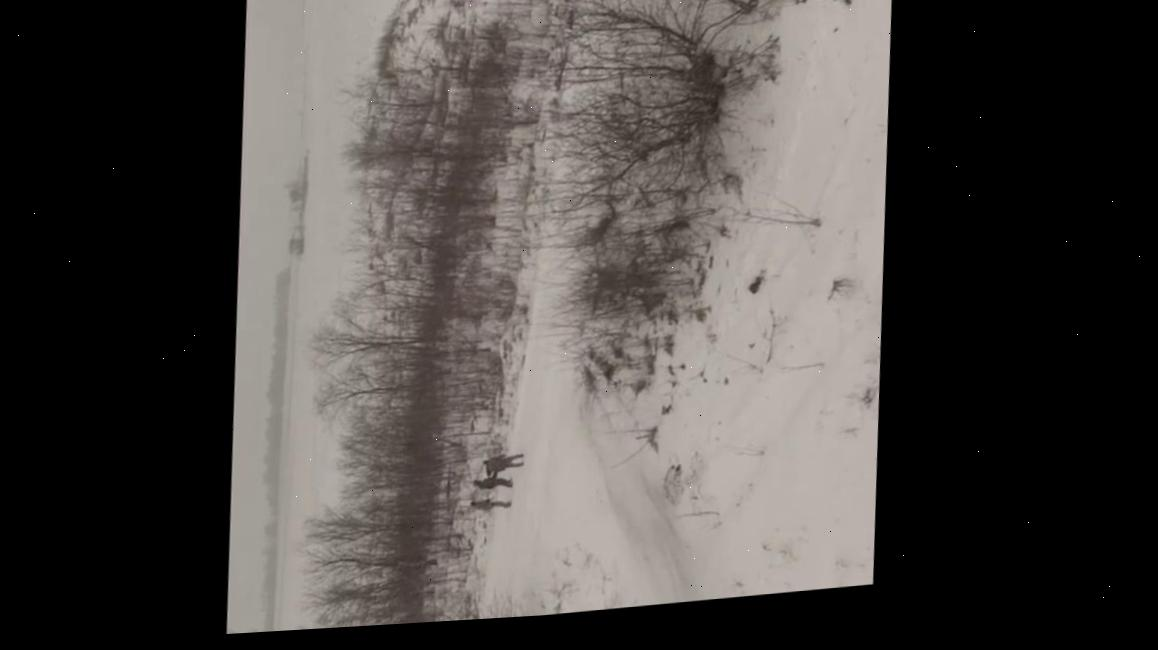person: (481, 451, 526, 473), (471, 473, 514, 491), (469, 494, 512, 512)
